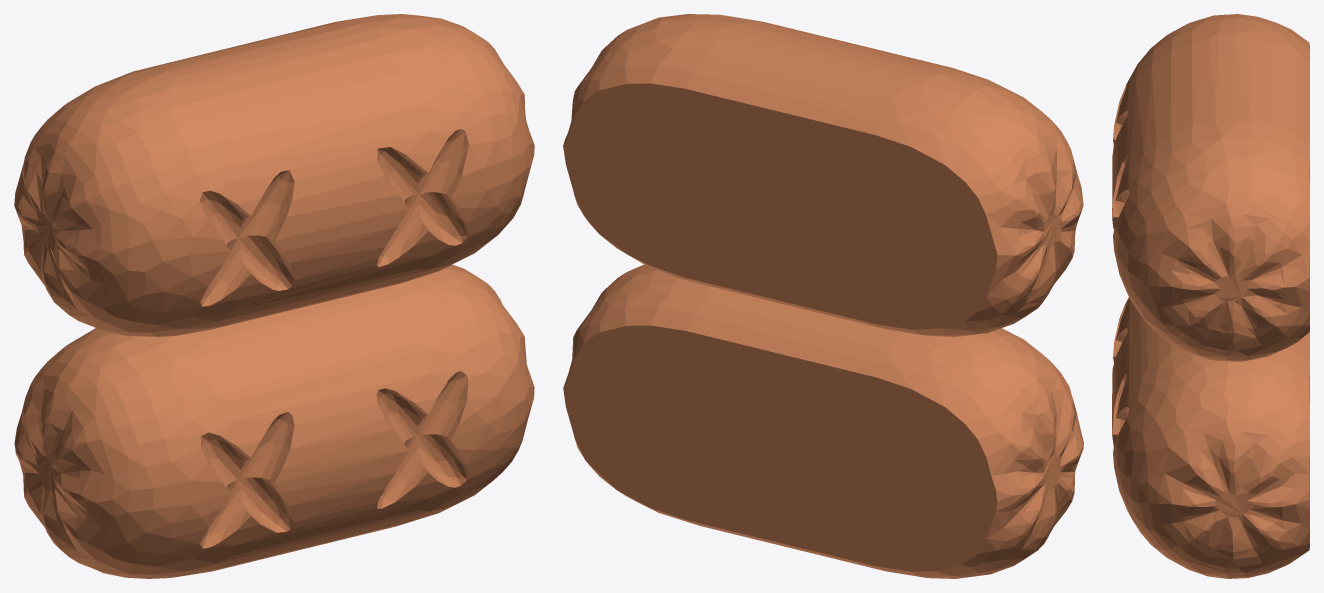
File: topping_sausageB.glb
3 views of the same model, side by side, from view 1: azimuth 30°, elevation 25°; view 2: azimuth 150°, elevation 25°; view 3: azimuth 270°, elevation 25° (orthographic). The views are drawn at different scales.
Visible parts, largest first — view 1: Cube.709; view 2: Cube.709; view 3: Cube.709.
Part boxes in pixels (x1,y1,x2,y2): Cube.709: [14, 14, 534, 578]; Cube.709: [563, 14, 1083, 578]; Cube.709: [1112, 14, 1309, 578].
Size of the model in its own units: 7.66 by 7.68 by 3.15.
